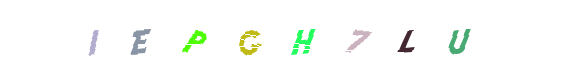1: (139, 0, 219, 80)
7: (263, 0, 343, 80)
E: (155, 0, 235, 80)
G: (220, 0, 300, 80)
H: (245, 0, 325, 80)
L: (366, 0, 446, 80)
P: (207, 0, 287, 80)
U: (417, 0, 497, 80)
